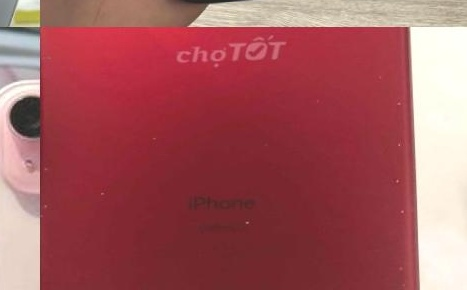scratch: (379, 92, 410, 215), (354, 256, 417, 290), (305, 85, 327, 105), (40, 197, 55, 218), (370, 65, 388, 82), (147, 129, 162, 145), (93, 188, 109, 201), (40, 159, 52, 176), (244, 212, 255, 228), (260, 135, 275, 146)
